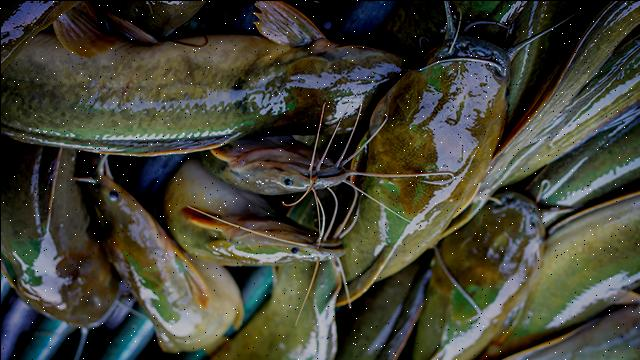Mulut: (420, 2, 514, 90), (281, 149, 373, 201), (489, 171, 548, 241), (298, 218, 366, 264)
Sirip Dada: (240, 0, 342, 60), (163, 229, 221, 319), (178, 193, 240, 249)
Sirip Punggung: (0, 103, 248, 175), (312, 233, 416, 313)
